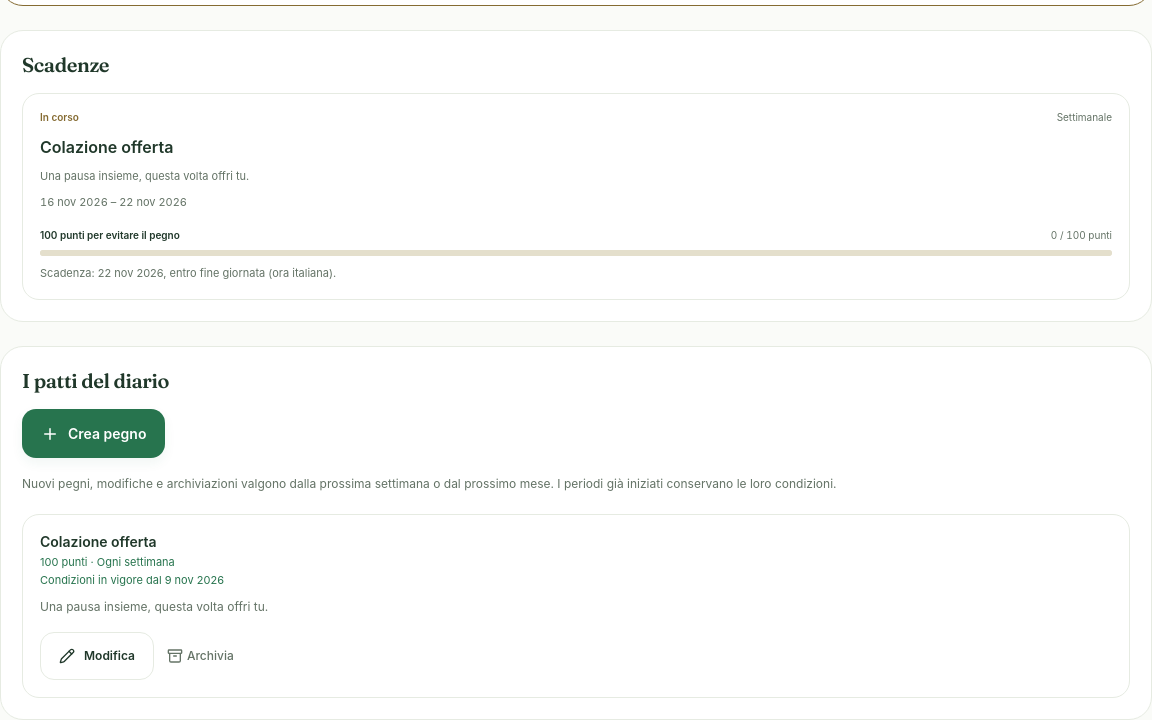
it: modifica soltanto i periodi futuri e preserva la periodicità del pegno
Later steps or results of the test are not shown.
(page scrolled)
Click the button "Modifica": (97, 656) left=40, top=632, right=154, bottom=680
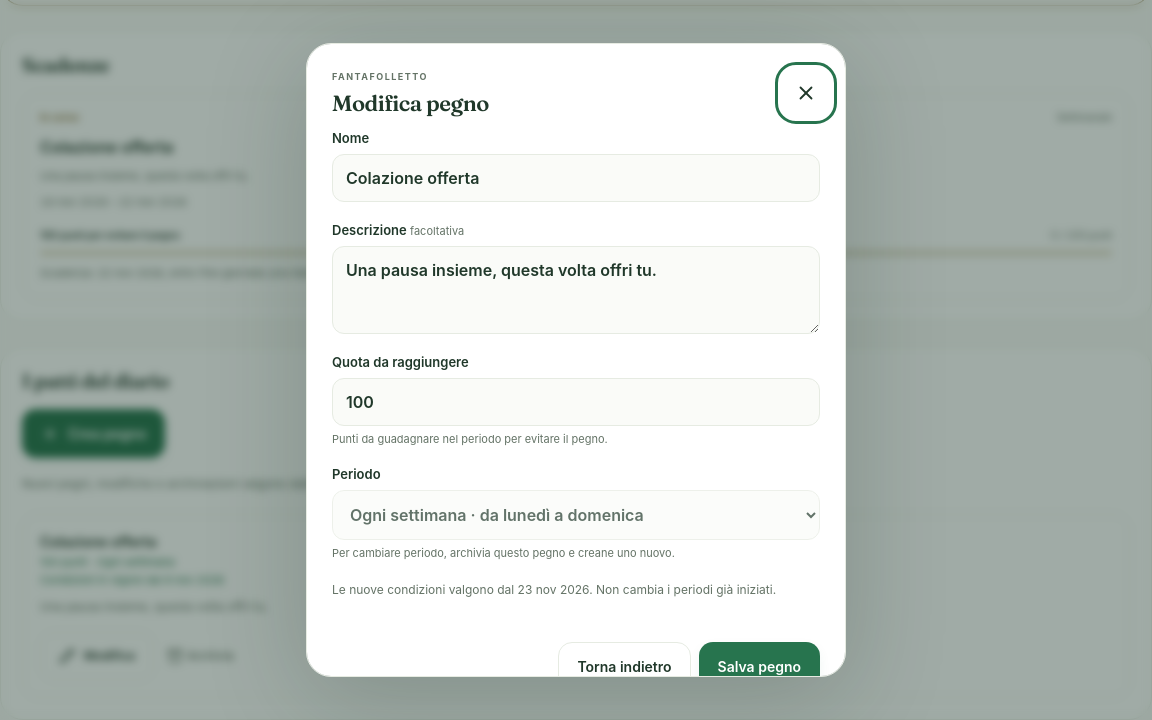
Check: the dropdown labelled "Periodo" is disabled, box left=332, top=490, right=820, bottom=540
Check: the text "dal 23 nov 2026" is shown, box left=332, top=580, right=820, bottom=600
